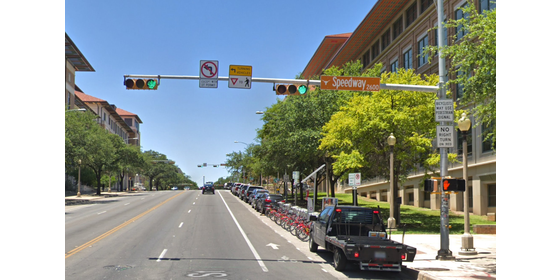bicyclists must use ped signal sign: (433, 95, 455, 123)
except with ut permit sign: (197, 79, 220, 88)
no left turn sign: (199, 58, 219, 78)
no right turn on red sign: (435, 123, 455, 150)
turning vehicle yield symbol to ped symbol sign: (228, 61, 254, 90)
